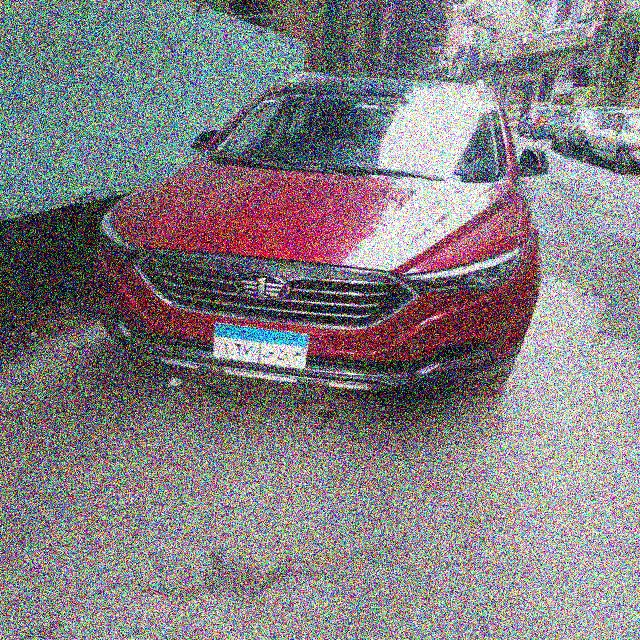License Plate: (204, 321, 311, 371)
